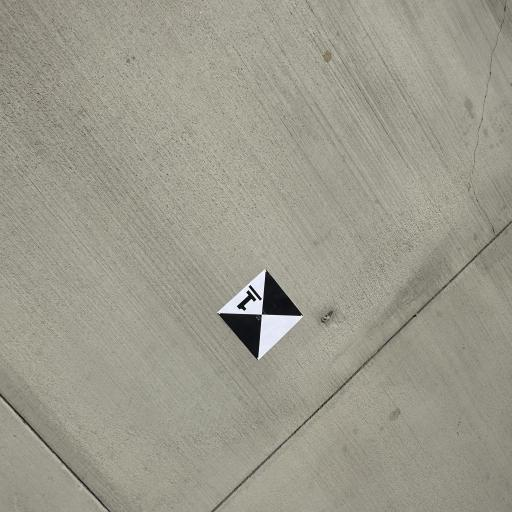target1: (212, 262, 307, 361)
